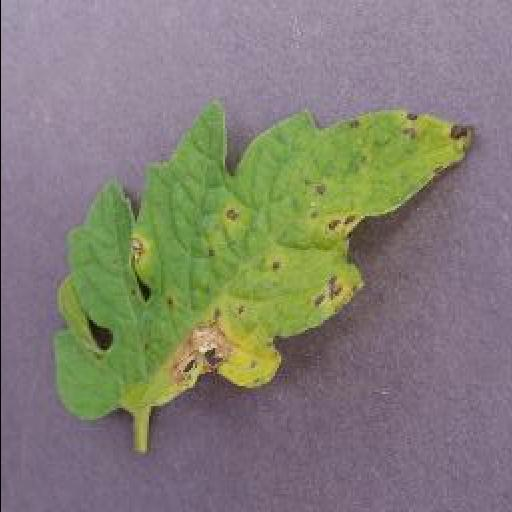disease_tomato: (51, 98, 477, 427)
